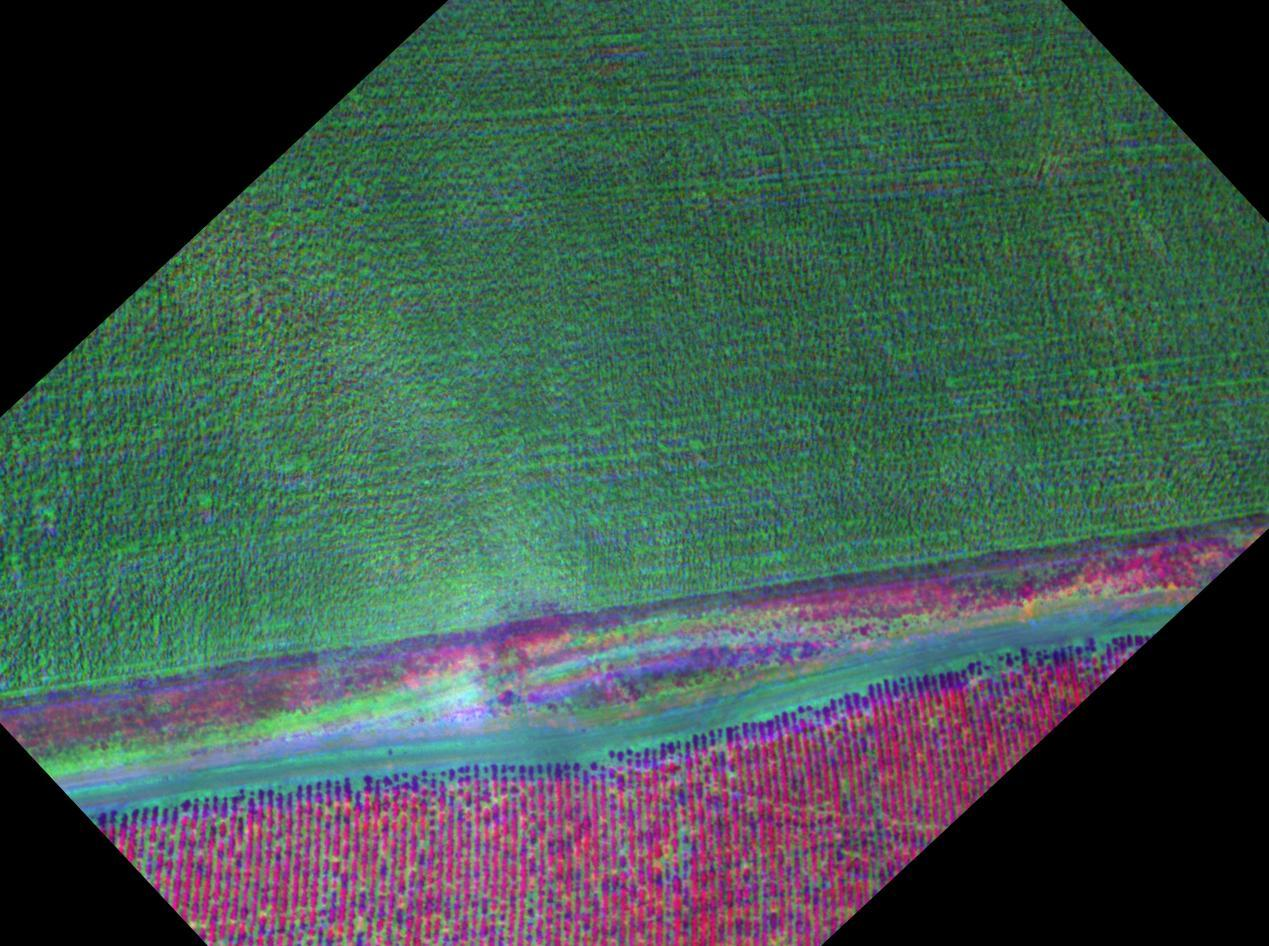dc: (347, 894, 456, 946), (828, 782, 891, 846), (236, 879, 296, 943), (641, 827, 696, 889)
